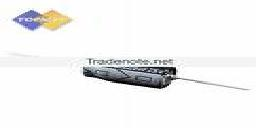Electrolytic-capacitor: (78, 63, 249, 96)
